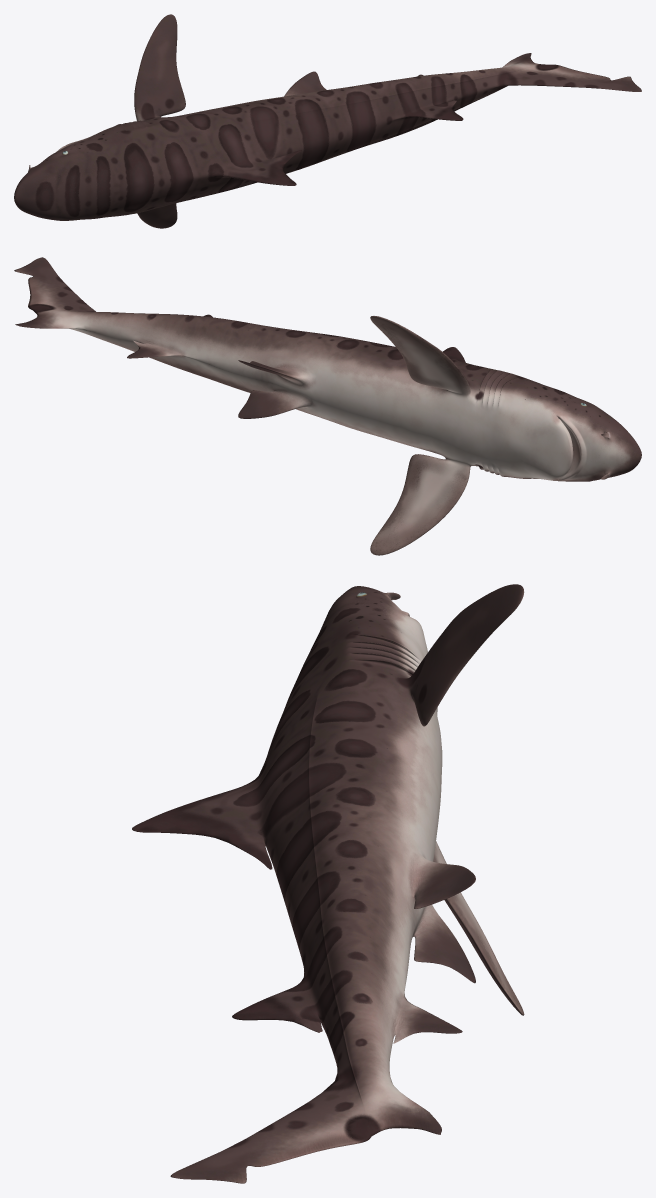
File: Leopard_Shark.obj
3 renders of one model, top to bottom at view 1: azimuth 30°, elevation 25°; view 2: azimuth 150°, elevation 25°; view 3: azimuth 270°, elevation 25°, orthographic. The views are drawn at different scales.
Parts seen in each view (by area): view 1: leopard_shark_pivot; view 2: leopard_shark_pivot; view 3: leopard_shark_pivot.
Boxes of the visible parts, box(x1,y1,x2,y2) form: leopard_shark_pivot: box(14, 14, 641, 228); leopard_shark_pivot: box(14, 257, 641, 555); leopard_shark_pivot: box(132, 584, 524, 1183).
Bounding box in the file's own units: 58.13 × 20.12 × 16.83.
1 material, 1 textured.
